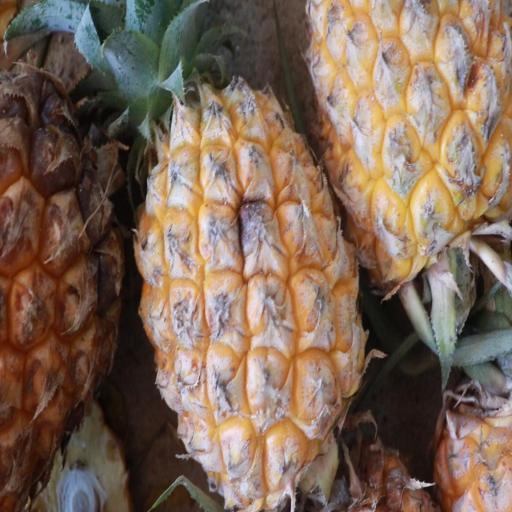Pineapple - v8 v1: (132, 34, 367, 512), (0, 18, 127, 511), (309, 0, 512, 284)
